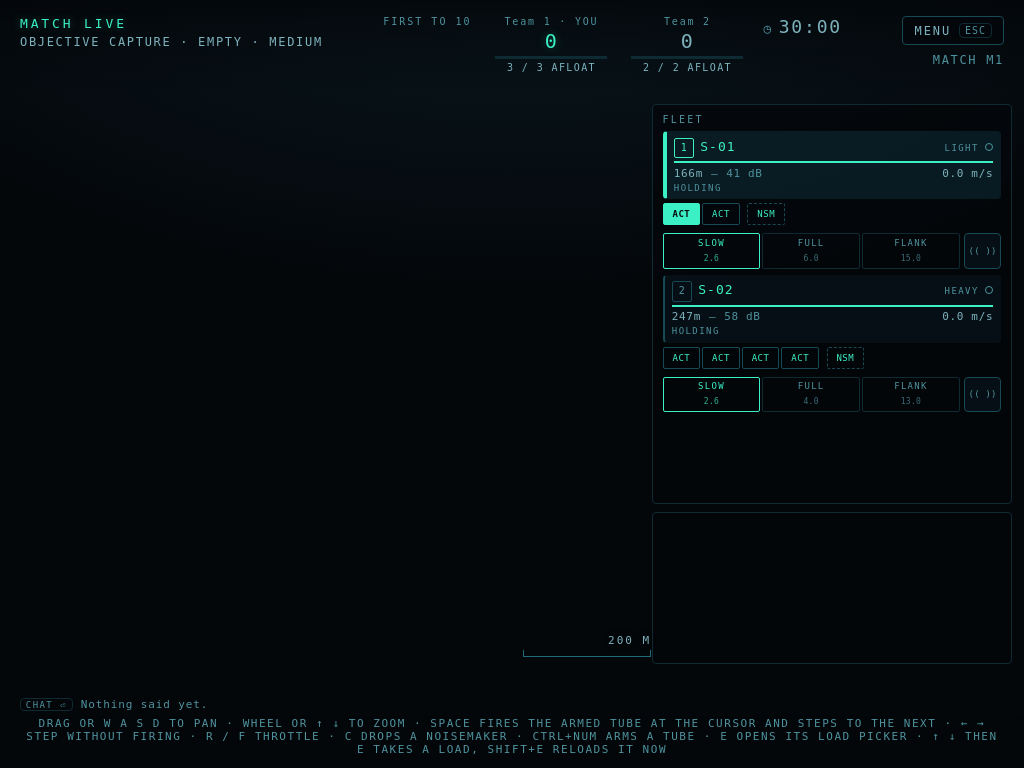
the load picker › offers only the loads the weapons phase can actually deploy
Click the 1st button "ACT". click: (681,214)
box: [663, 203, 700, 225]
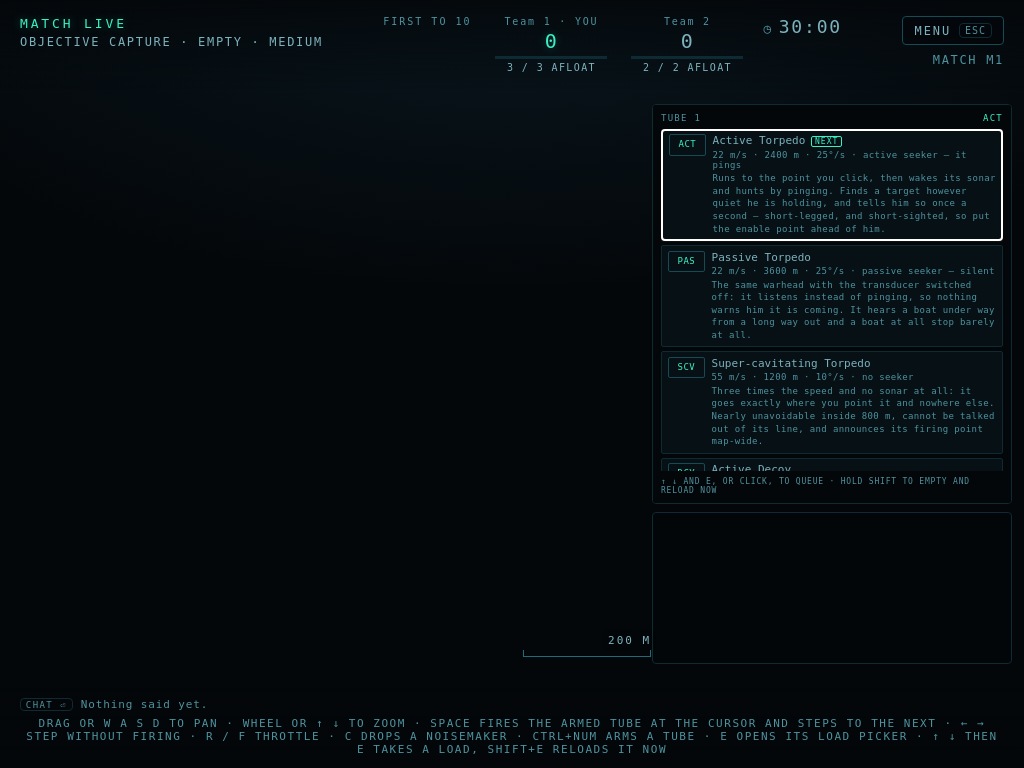
expect the dialog "TUBE" is shown: met, box [653, 105, 1011, 503]
expect the text "Active Torpedo" is shown: met, box [713, 134, 805, 147]
expect the text "Passive Torpedo" is shown: met, box [712, 251, 811, 264]
